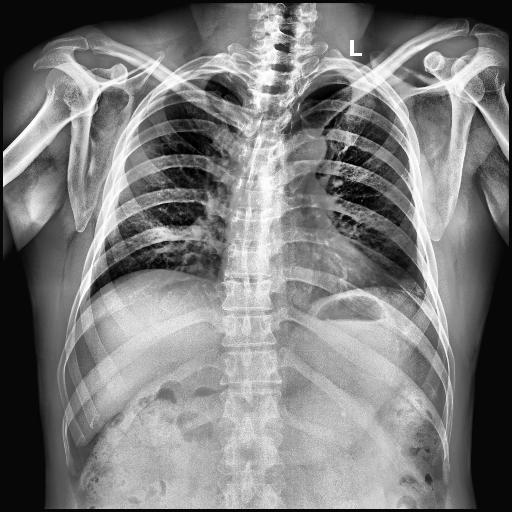0- Aortic enlargement: (278, 128, 326, 190), (285, 130, 327, 171), (283, 128, 326, 166)
7- Lung Opacity: (396, 278, 424, 296)
8- Nodule-Mass: (396, 278, 424, 296), (400, 278, 422, 294)
9- Other lesion: (228, 150, 270, 314), (232, 150, 274, 312), (400, 278, 422, 294)
